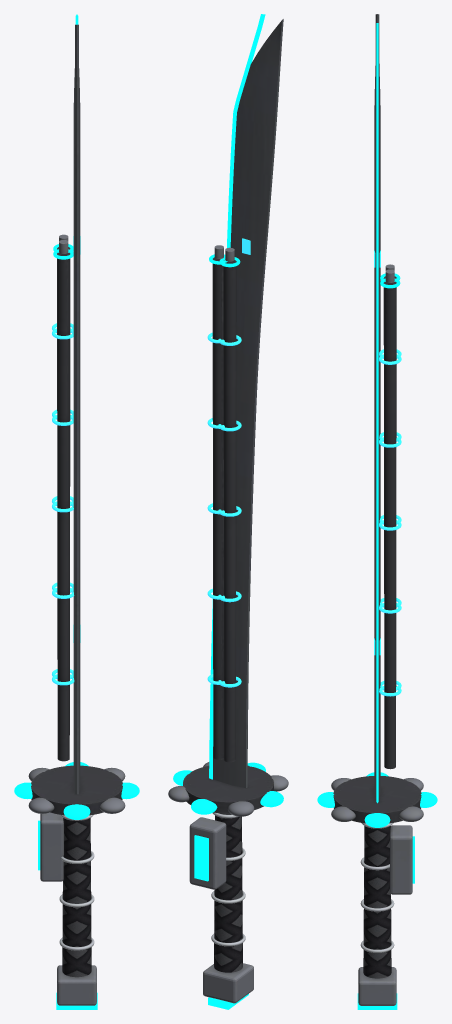
3 renders of one model, left to right at view 1: azimuth 90°, elevation 25°; view 2: azimuth 150°, elevation 25°; view 3: azimuth 270°, elevation 25°, orthographic. The views are drawn at different scales.
Parts seen in each view (by area): view 1: kat_dark, kat_blade, kat_wrap, kat_plate, glow_kat_rim, glow_kat_line, kat_pale; view 2: kat_blade, kat_dark, kat_plate, kat_wrap, glow_kat_rim, glow_kat_edge, glow_kat_line, kat_pale; view 3: kat_dark, kat_blade, kat_wrap, kat_plate, glow_kat_edge, glow_kat_rim, glow_kat_line, kat_pale.
Part boxes in pixels (<box>): kat_dark: <box>31,247,122,815</box>; kat_blade: <box>73,24,80,794</box>; kat_wrap: <box>62,818,91,977</box>; kat_plate: <box>28,234,125,1005</box>; glow_kat_rim: <box>14,244,139,1009</box>; glow_kat_line: <box>52,236,80,685</box>; kat_pale: <box>59,814,94,950</box>; kat_blade: <box>213,19,283,787</box>; kat_dark: <box>183,257,273,813</box>; kat_plate: <box>168,245,288,1003</box>; kat_wrap: <box>214,813,242,972</box>; glow_kat_rim: <box>173,254,283,1009</box>; glow_kat_edge: <box>209,14,265,779</box>; glow_kat_line: <box>207,238,250,687</box>; kat_pale: <box>211,812,245,946</box>; kat_dark: <box>333,276,421,823</box>; kat_blade: <box>374,14,380,797</box>; kat_wrap: <box>363,826,391,978</box>; kat_plate: <box>331,264,423,1005</box>; glow_kat_edge: <box>376,23,378,803</box>; glow_kat_rim: <box>317,273,437,1009</box>; glow_kat_line: <box>374,250,401,696</box>; kat_pale: <box>360,823,394,952</box>.
Bounding box in the file's own units: 0.1601 × 1.4 × 0.158.
8 materials, 5 textured.
